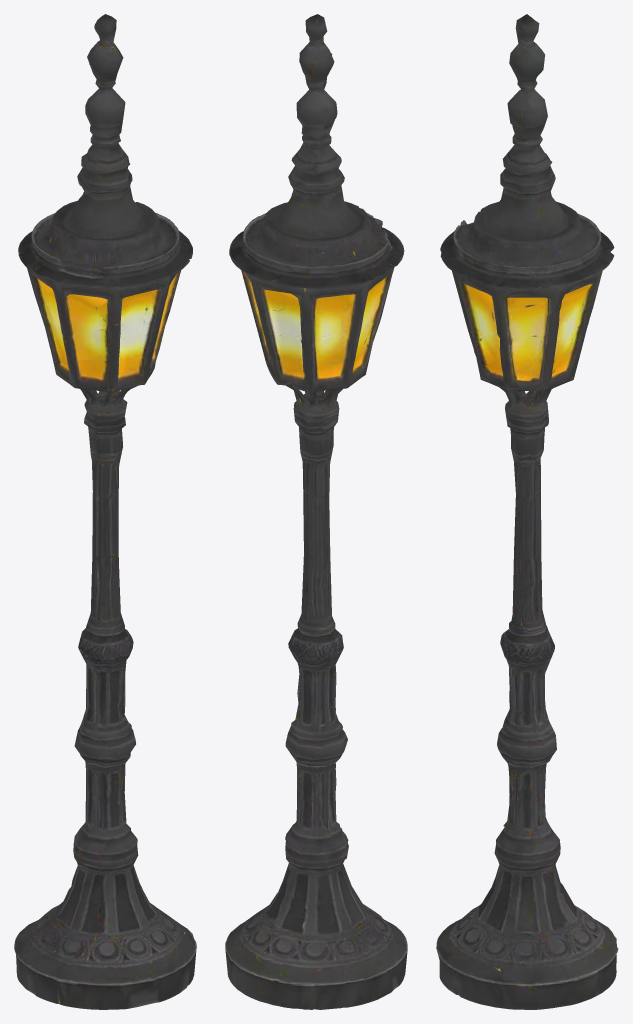
Rendered from lamp_post.glb.
3 renders of one model, left to right at view 1: azimuth 30°, elevation 25°; view 2: azimuth 150°, elevation 25°; view 3: azimuth 270°, elevation 25°, orthographic.
Size of the model in its own units: 0.3276 by 1.9 by 0.3271.
Materials: 1 (1 with a texture image).
